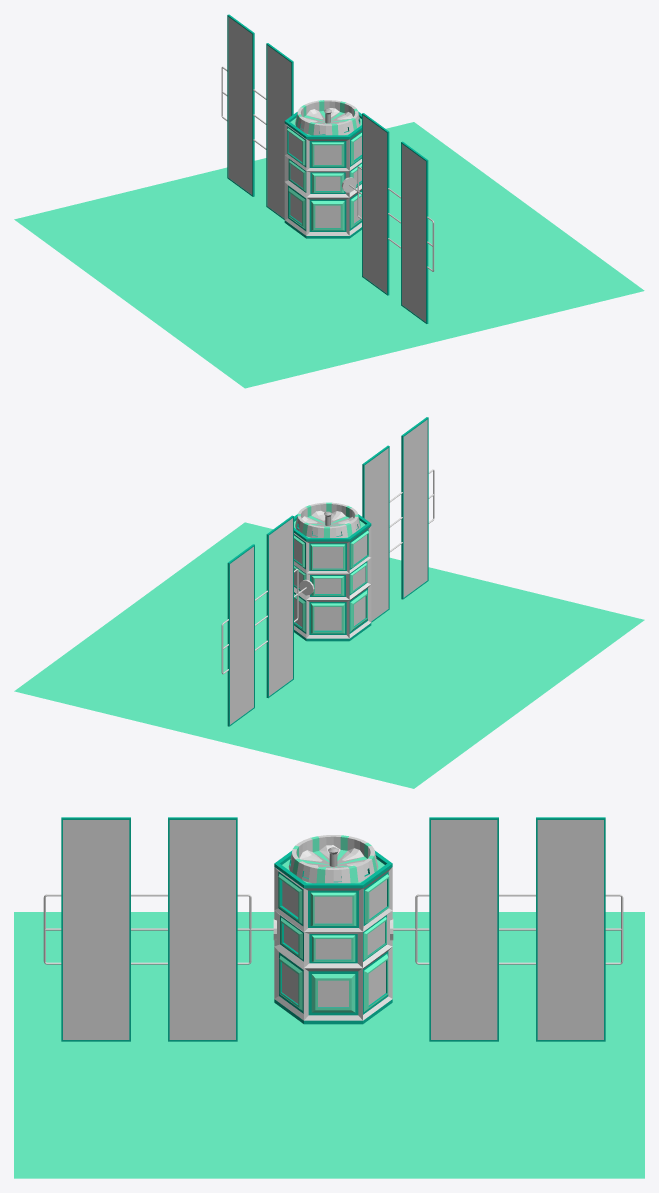
File: satellite_1_1_green.fbx
3 views of the same model, one above another, from view 1: azimuth 30°, elevation 25°; view 2: azimuth 150°, elevation 25°; view 3: azimuth 270°, elevation 25° (orthographic). The views are drawn at different scales.
Parts seen in each view (by area): view 1: Plane, pCube7, Cylinder.020, Cylinder.021; view 2: Plane, pCube7, Cylinder.020, Cylinder.021; view 3: Plane, pCube7, Cylinder.020, Cylinder.021.
Boxes of the visible parts, <box> form: Plane: <box>14,122,644,388</box>; pCube7: <box>221,14,434,323</box>; Cylinder.020: <box>284,111,361,238</box>; Cylinder.021: <box>295,100,360,135</box>; Plane: <box>14,522,644,788</box>; pCube7: <box>221,417,434,726</box>; Cylinder.020: <box>294,514,371,641</box>; Cylinder.021: <box>295,502,360,537</box>; Plane: <box>14,912,644,1178</box>; pCube7: <box>43,817,623,1041</box>; Cylinder.020: <box>274,850,392,1024</box>; Cylinder.021: <box>288,835,378,883</box>.
Size of the model in its own units: 1000 by 398 by 1000.
